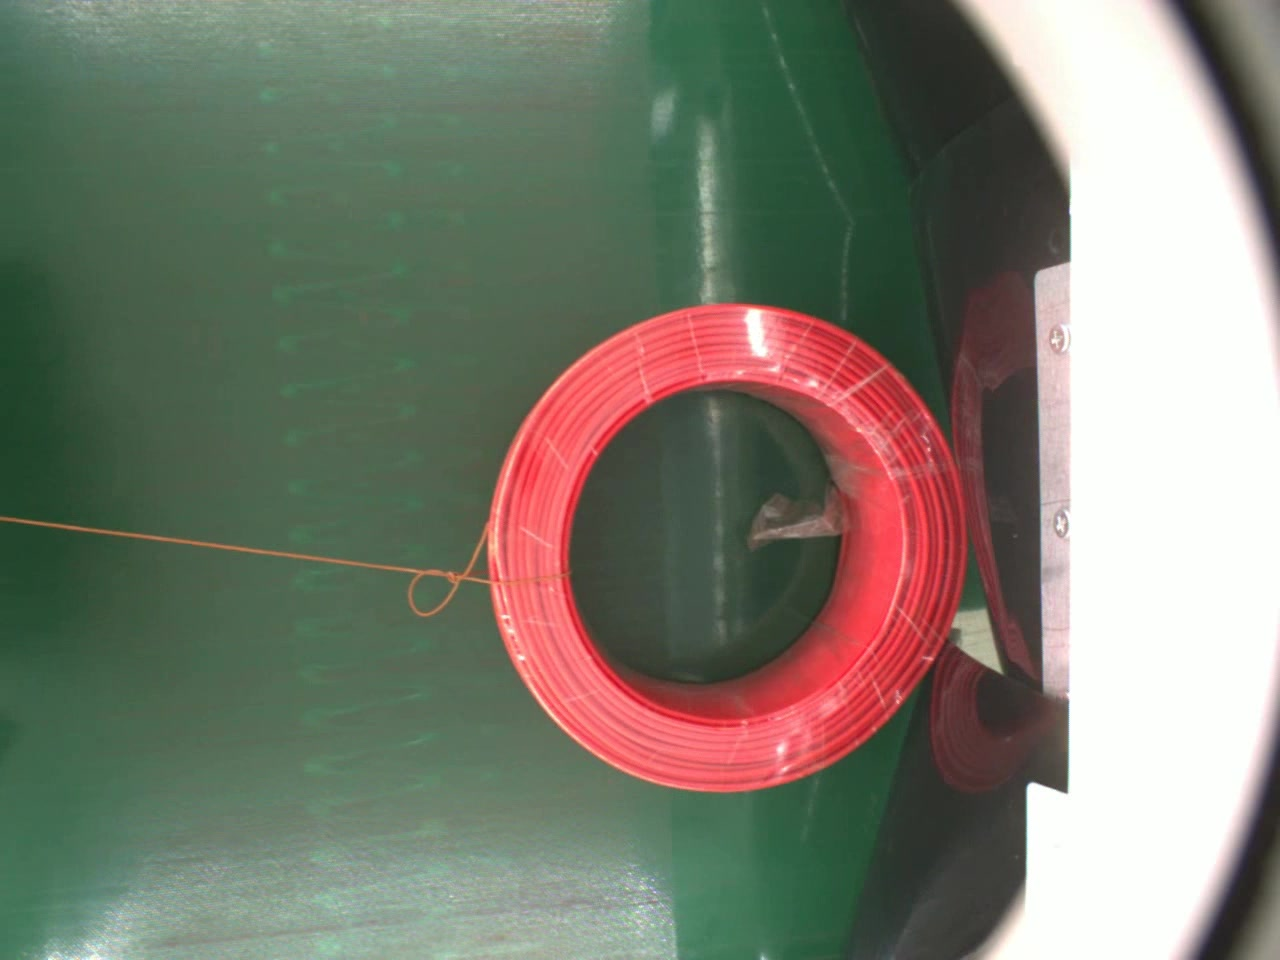red: (475, 301, 968, 795)
